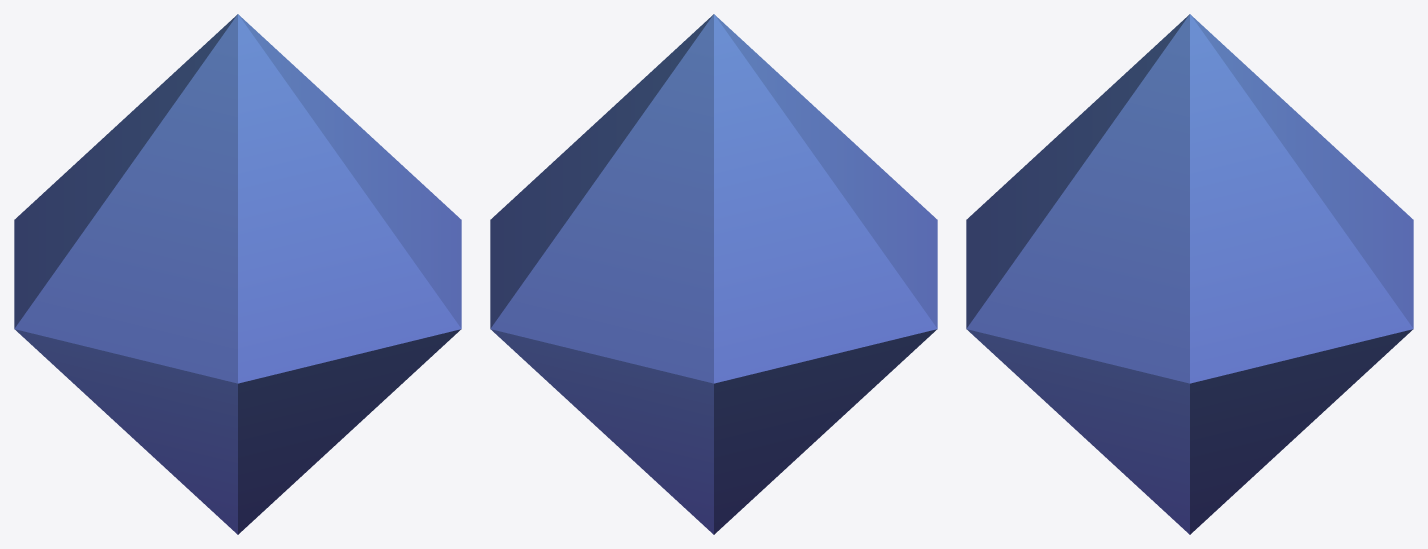
The model's file is jewel.fbx.
3 views of the same model, side by side, from view 1: azimuth 30°, elevation 25°; view 2: azimuth 150°, elevation 25°; view 3: azimuth 270°, elevation 25° (orthographic).
Parts seen in each view (by area): view 1: jewel; view 2: jewel; view 3: jewel.
Part boxes in pixels (<box>): jewel: <box>14,14,461,534</box>; jewel: <box>490,14,937,534</box>; jewel: <box>966,14,1413,534</box>.
Bounding box in the file's own units: 33.29 × 37.05 × 28.83.
